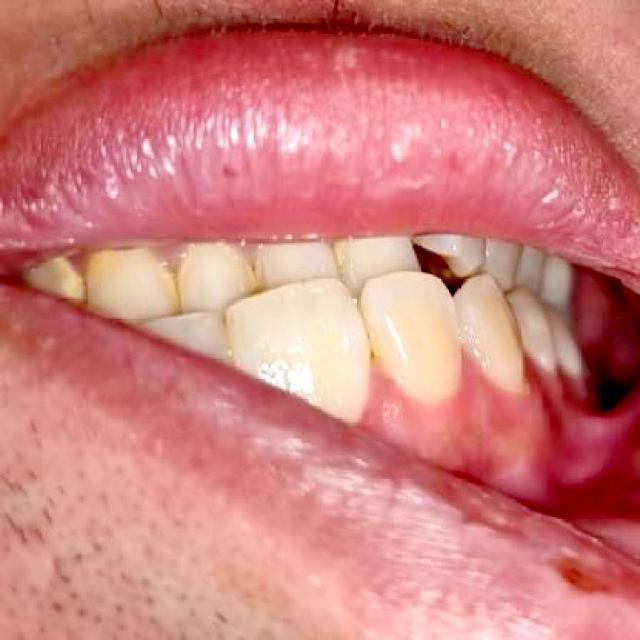Plaque: (47, 231, 123, 296), (145, 236, 190, 270)
